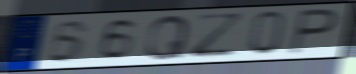0: (247, 9, 287, 58)
6: (45, 19, 91, 64), (96, 18, 138, 61)
P: (286, 7, 341, 56)
Q: (143, 14, 192, 61)
Z: (187, 12, 248, 60)
